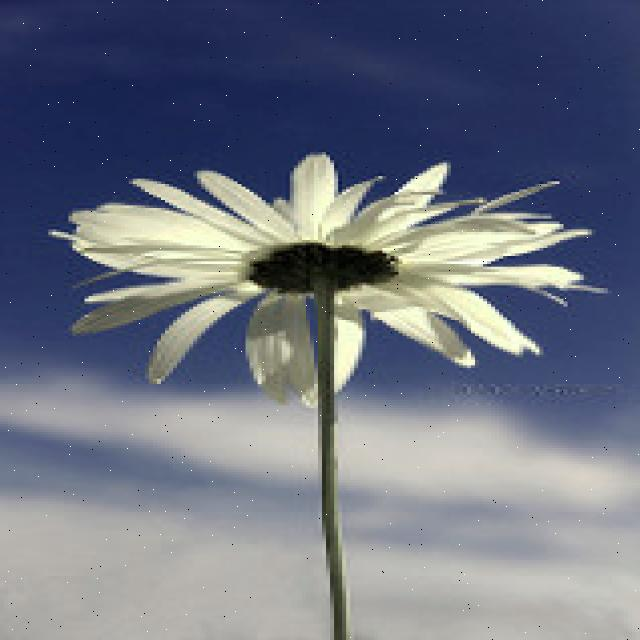Bloomed: (44, 150, 600, 406)
